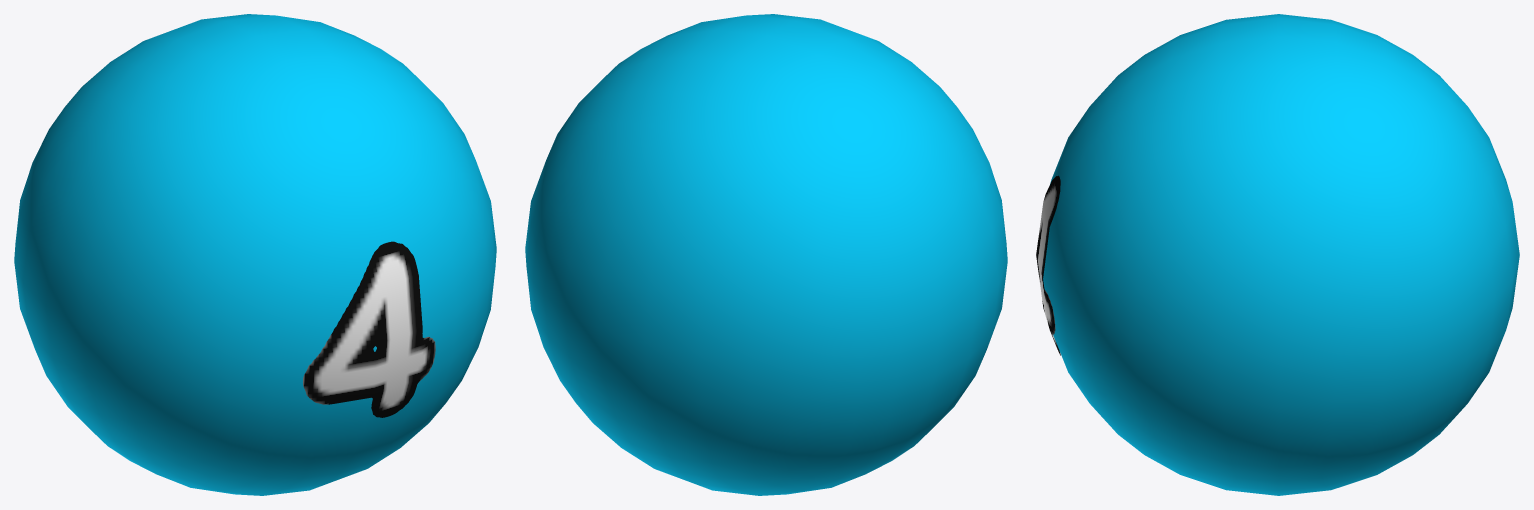
File: Ball 4.fbx
3 views of the same model, side by side, from view 1: azimuth 30°, elevation 25°; view 2: azimuth 150°, elevation 25°; view 3: azimuth 270°, elevation 25° (orthographic).
Parts seen in each view (by area): view 1: Ball 4; view 2: Ball 4; view 3: Ball 4.
Part boxes in pixels (left/top/right/bottom): Ball 4: left=14, top=14, right=496, bottom=495; Ball 4: left=525, top=14, right=1007, bottom=495; Ball 4: left=1036, top=14, right=1519, bottom=495.
Bounding box in the file's own units: 164 × 164 × 164.
